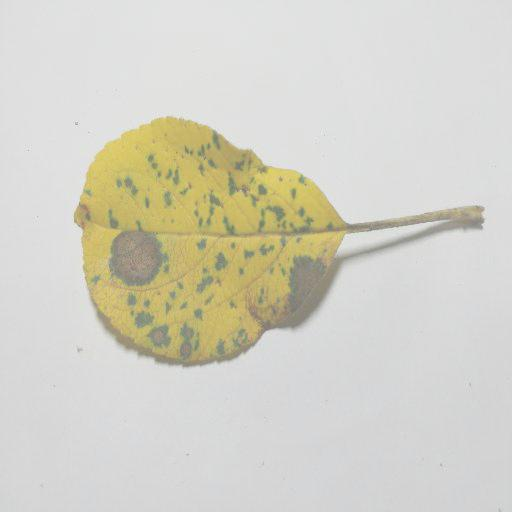Brown_Spot: (105, 233, 162, 287), (287, 250, 328, 314), (242, 297, 273, 335), (179, 324, 195, 362), (154, 324, 168, 348)
